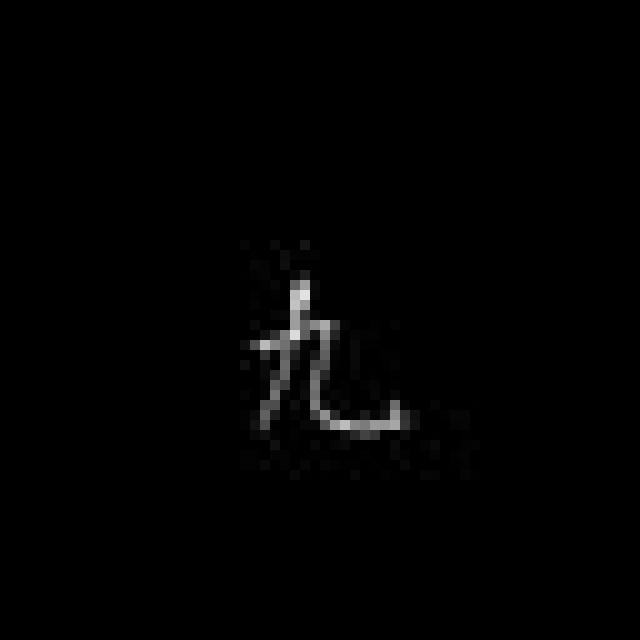9 -nine-: (251, 268, 417, 446)
